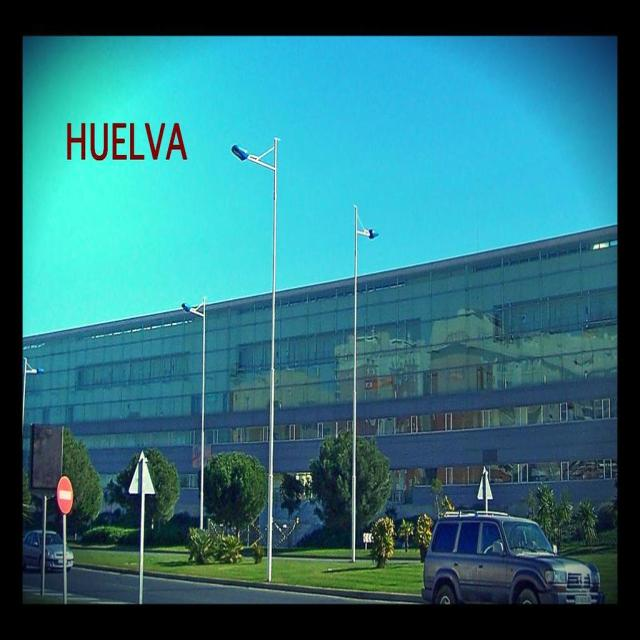car: (421, 507, 606, 606)
